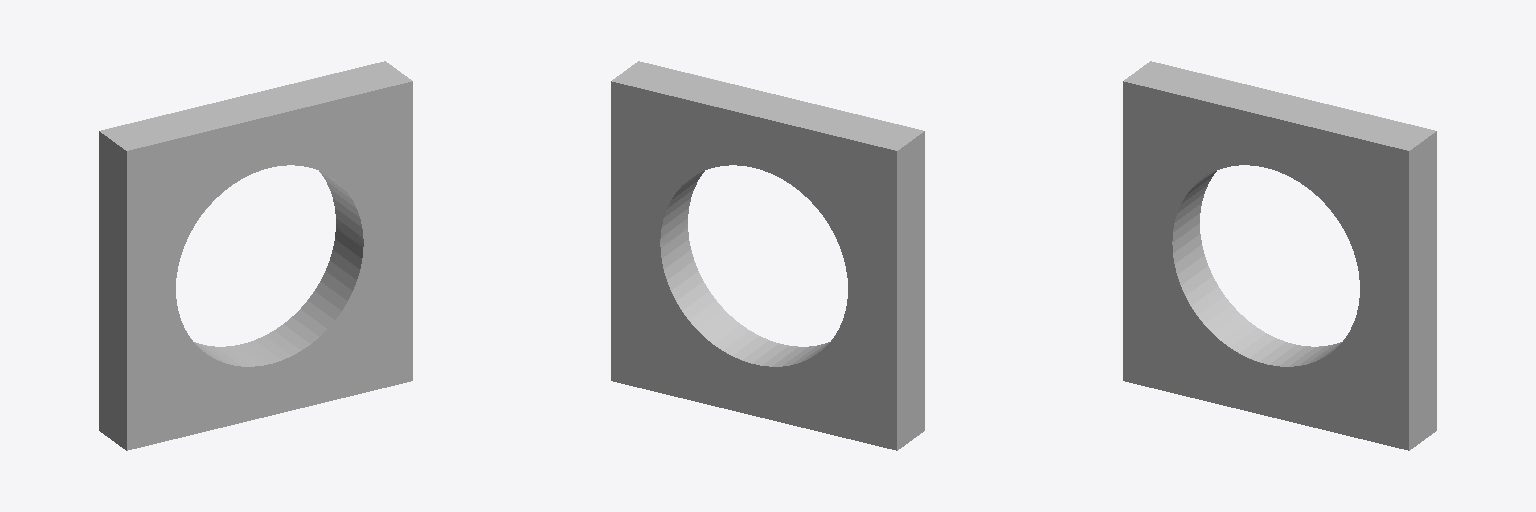
Rendered from round_hole_1_5in_sim_loose.obj.
3 renders of one model, left to right at view 1: azimuth 30°, elevation 25°; view 2: azimuth 150°, elevation 25°; view 3: azimuth 330°, elevation 25°, orthographic.
Bounding box in the file's own units: 60 × 60 × 10.